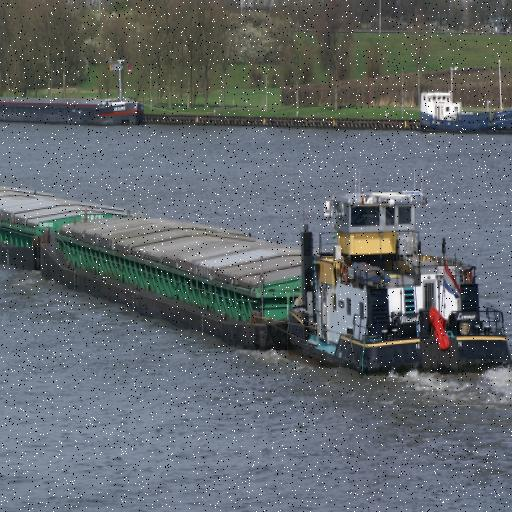tugboat: (285, 165, 512, 391)
